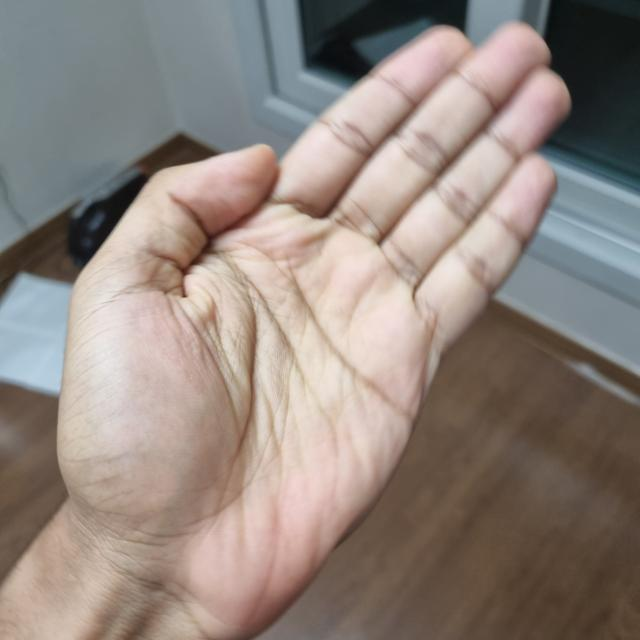Paper: (57, 21, 567, 611)
